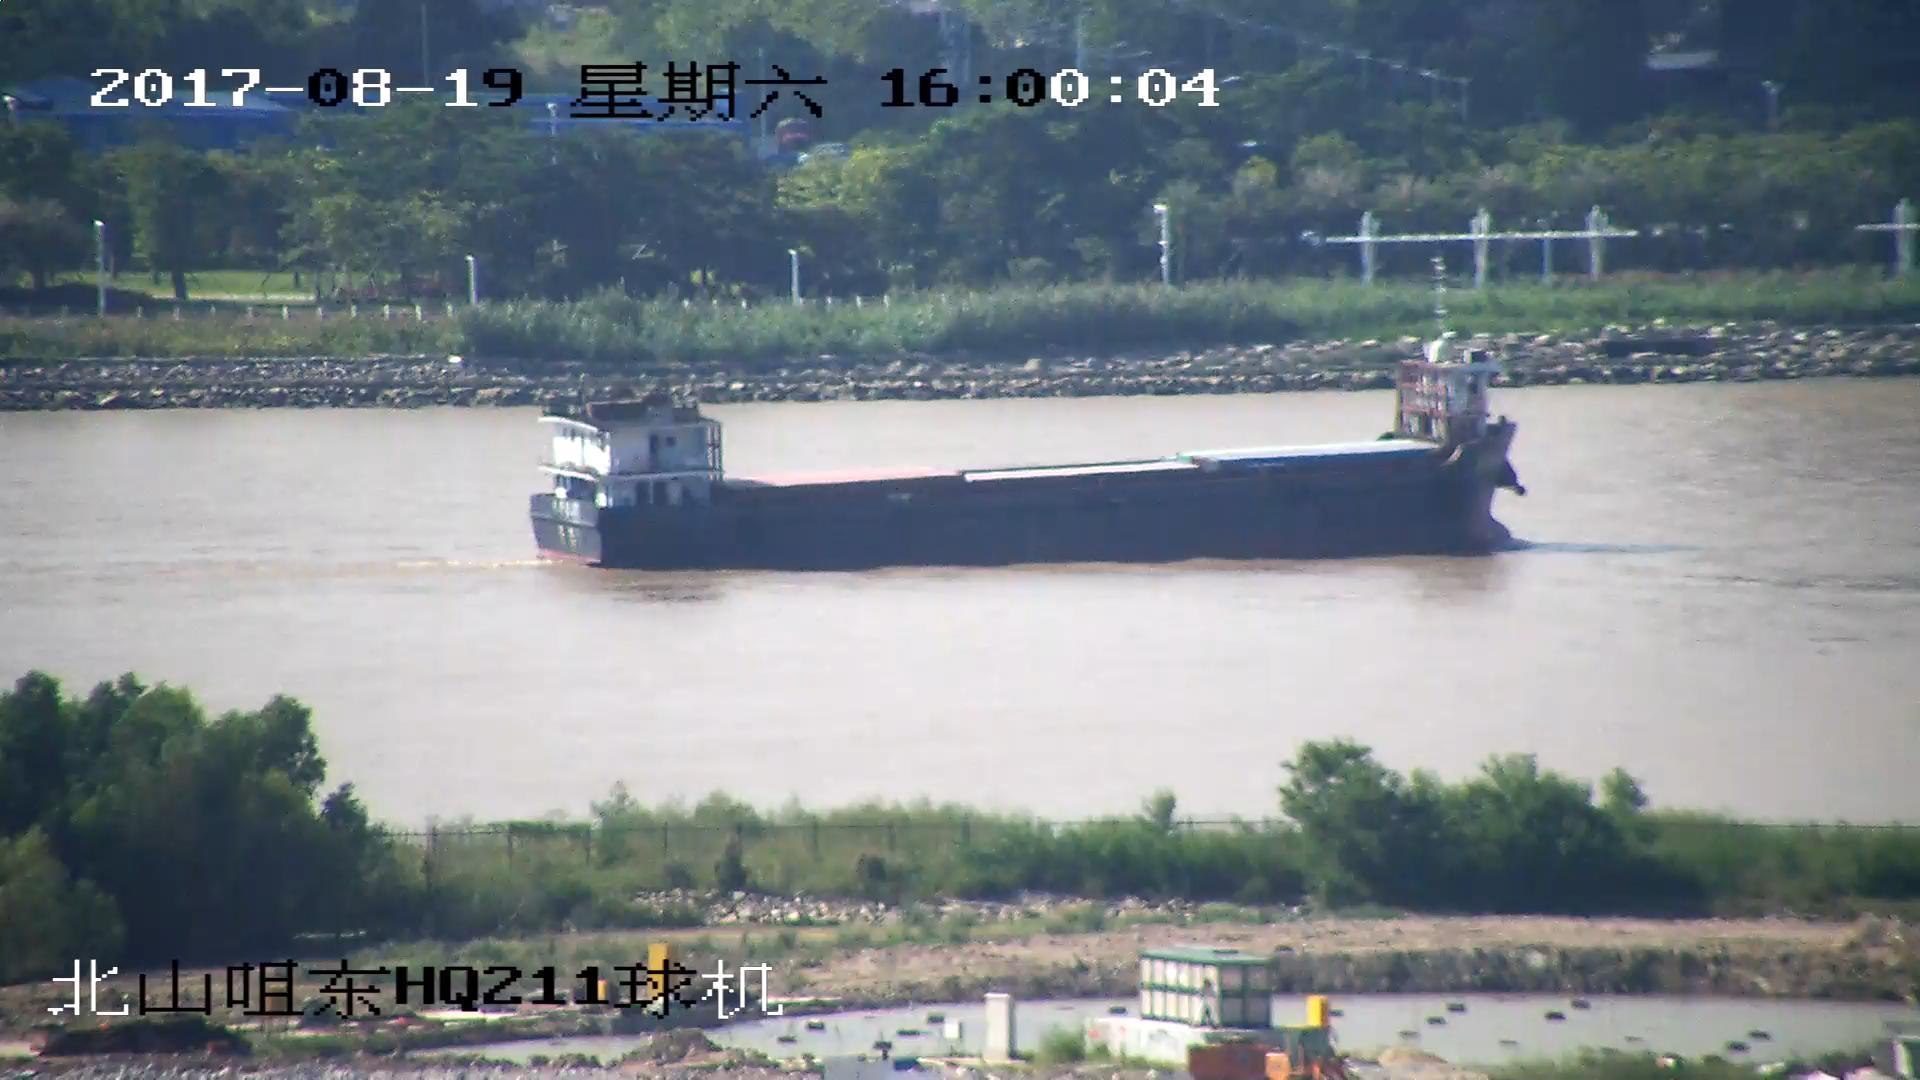Ship: (530, 320, 1530, 570)
